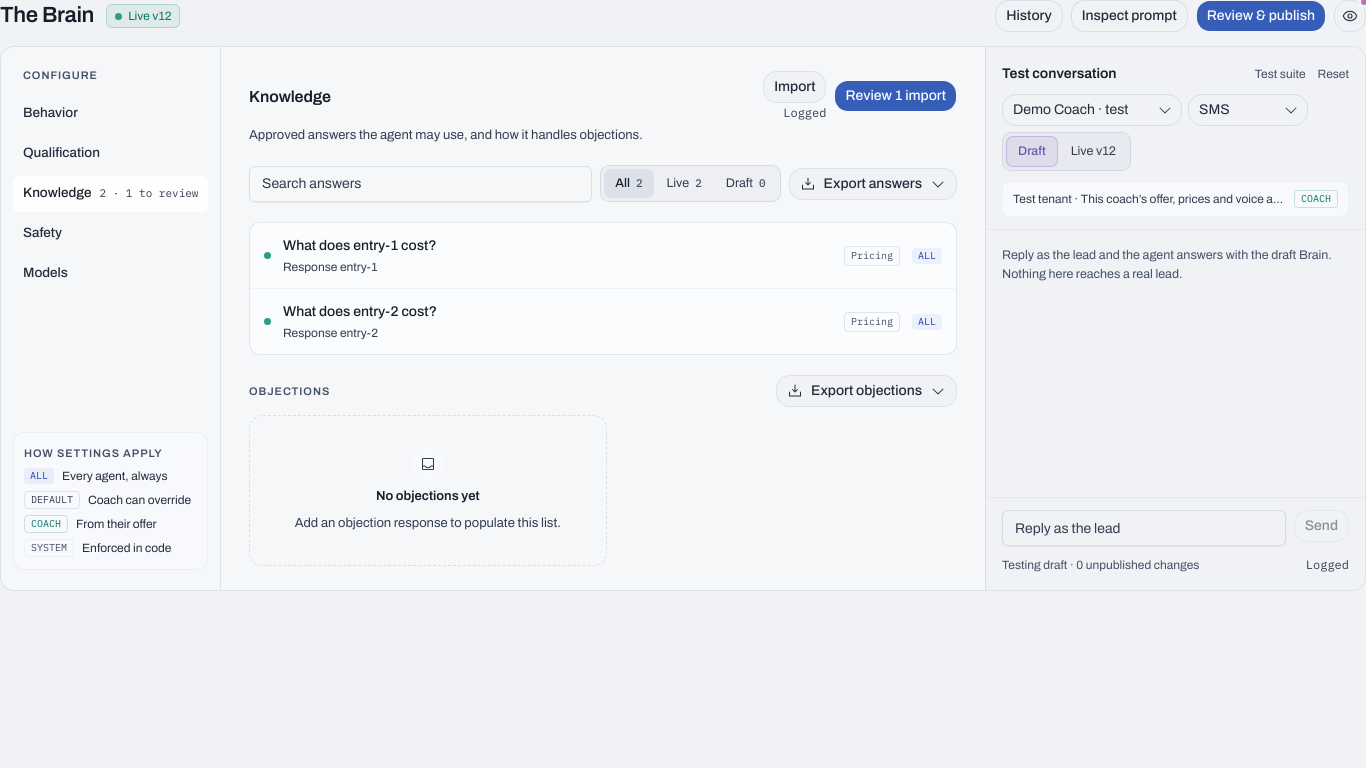
it: OwnerBrain, question phrasings › prints the route's refusal beside the box and keeps what was typed
Click the text "What does entry-1 cost?" at [360, 246], box x1=283 y1=238 x2=437 y2=253
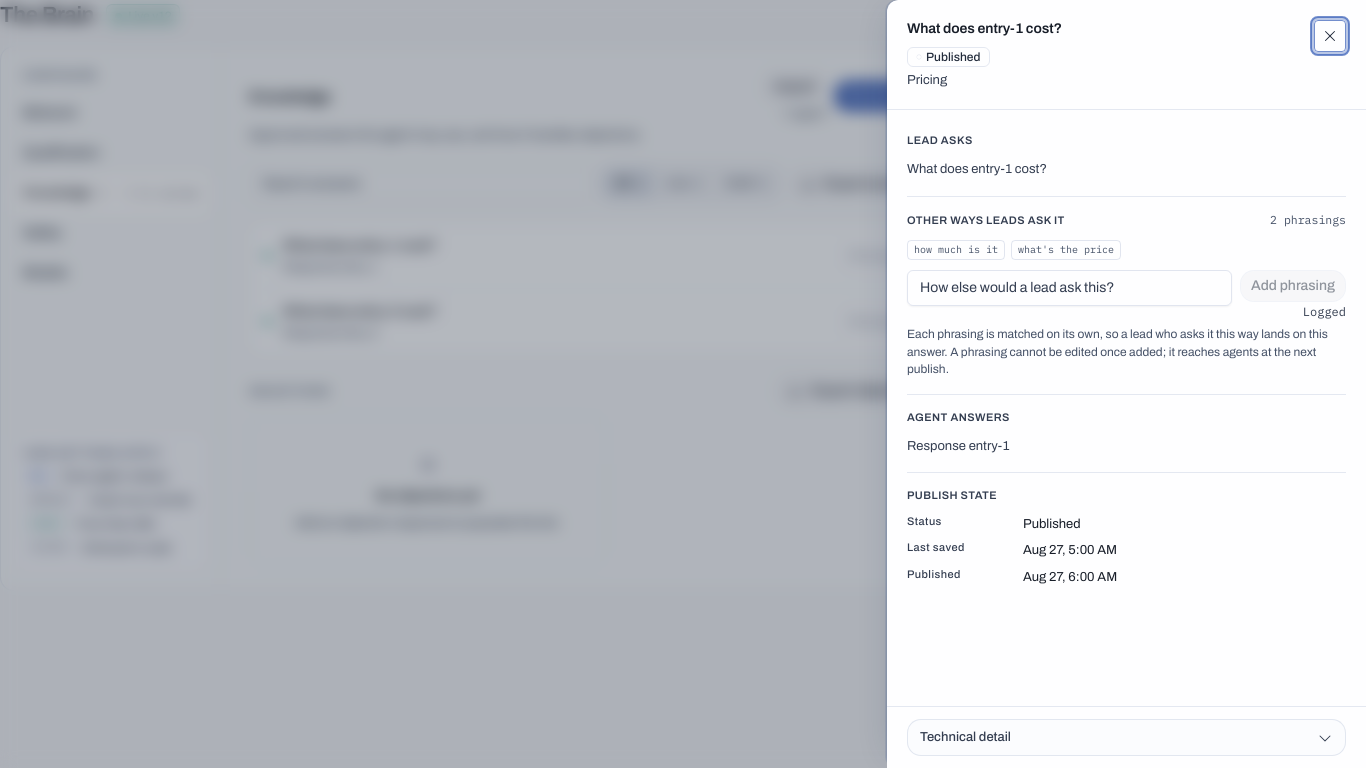
Type "how much is it" into the field named "Add a phrasing" at [1069, 288], box x1=907 y1=270 x2=1232 y2=306
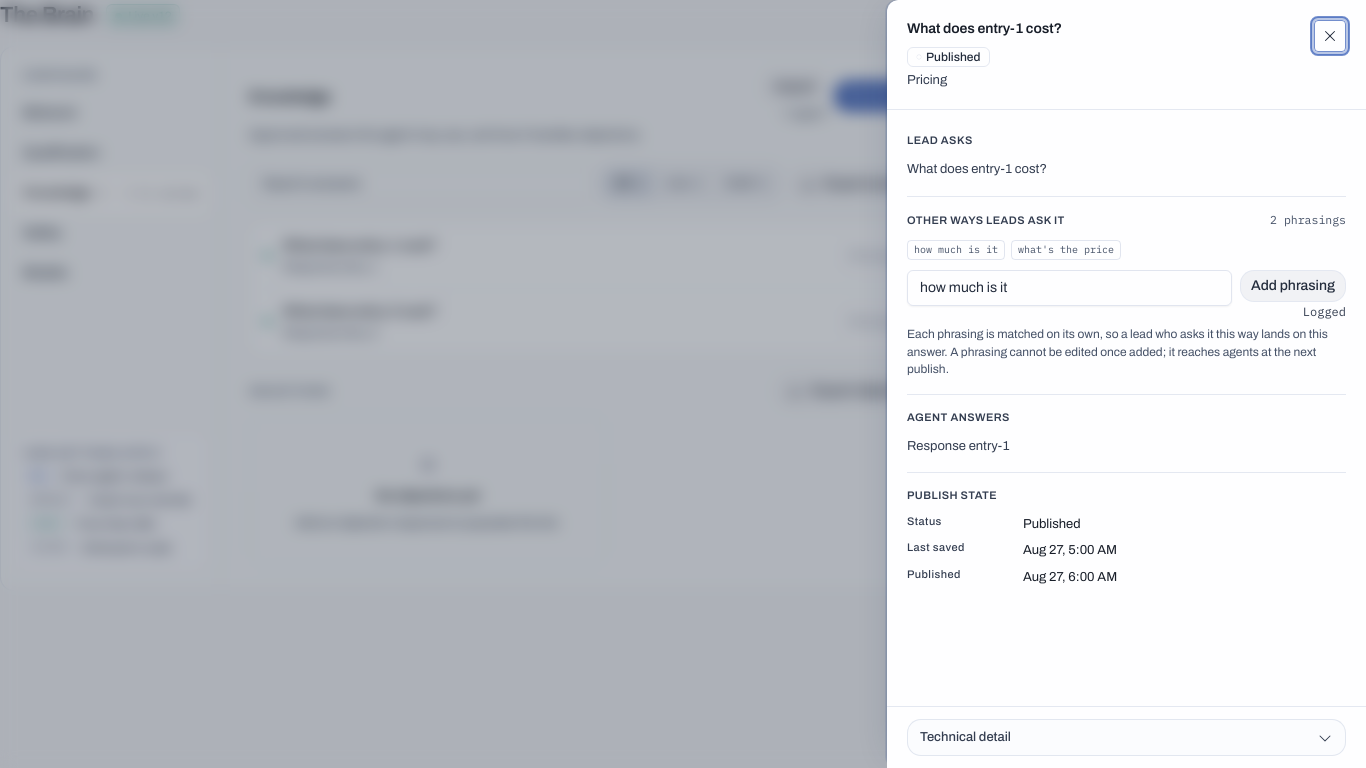
Click the button "Add phrasing" at [1293, 286], box x1=1240 y1=270 x2=1346 y2=302
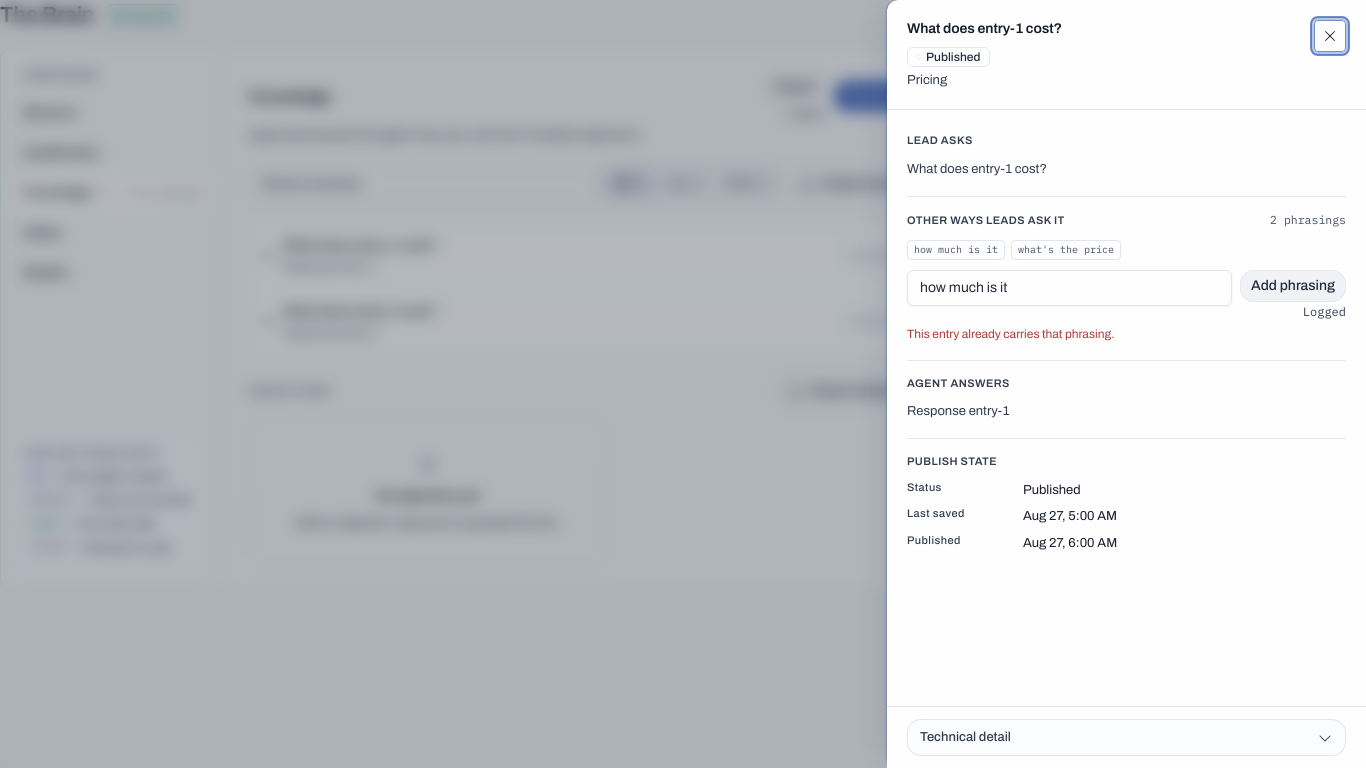
Expected: the text "2 phrasings" is shown, x1=1270 y1=213 x2=1346 y2=228
Expected: the message reads "This entry already carries that phrasing.", x1=907 y1=327 x2=1114 y2=341
